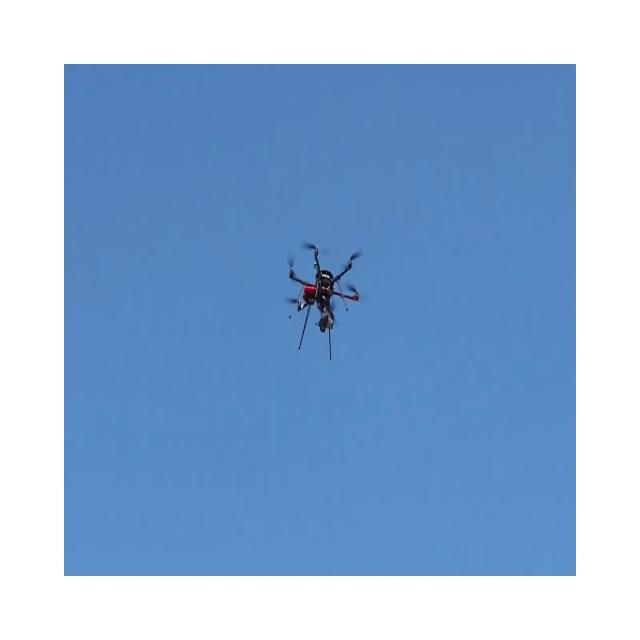drone: (286, 241, 361, 361)
